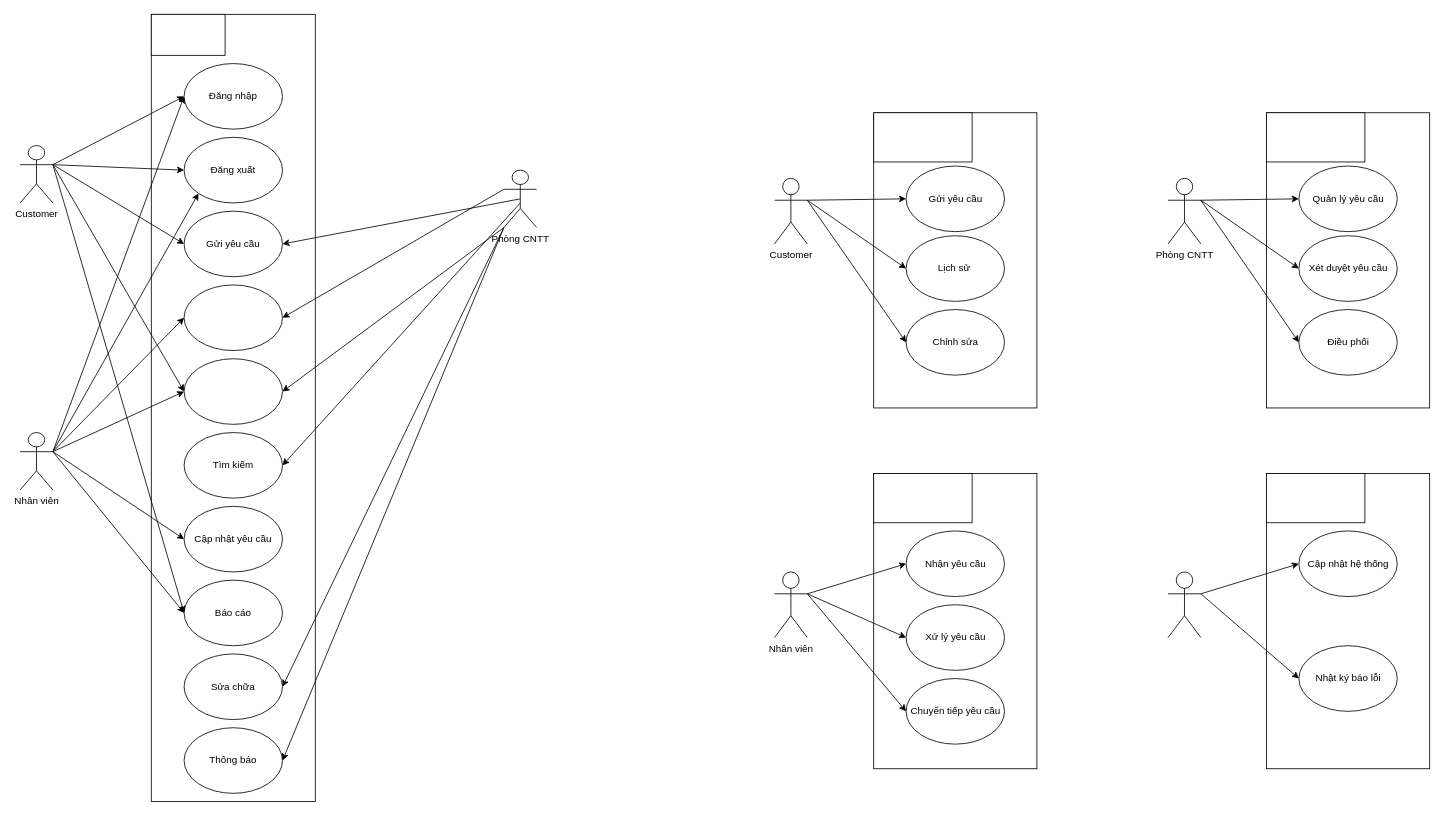
The diagram is 1444 pixels wide and 816 high, and some of its shapes have lost their labels. Each missing label, with the box of its shape:
Chỉnh sửa yêu cầu: (183, 284, 282, 351)
Danh sách yêu cầu: (183, 358, 282, 424)
Super: (1167, 571, 1201, 638)
